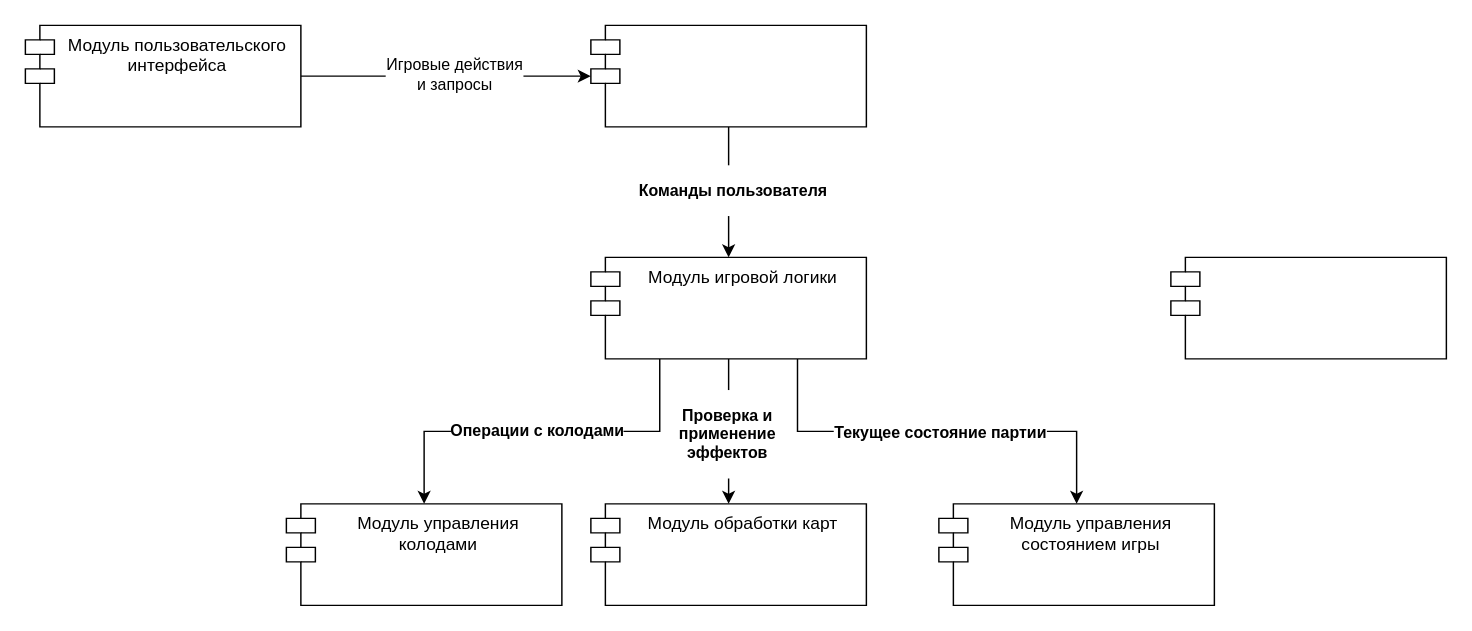
The diagram is 1472 pixels wide and 631 high, and some of its shapes have lost their labels. The shapes that lost their labels are listed below. From the top down, each one's centre as x and y in pixels, then its label:
the point at 727,75: Модуль API и обработки запросов
the point at 1307,307: Модуль доступа к данным
